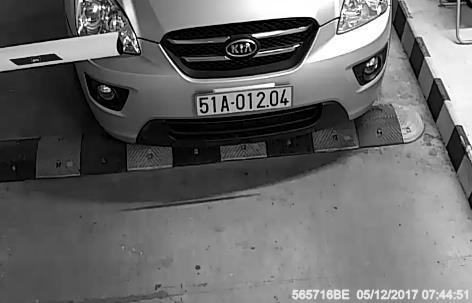License-plate: (189, 80, 297, 121)
